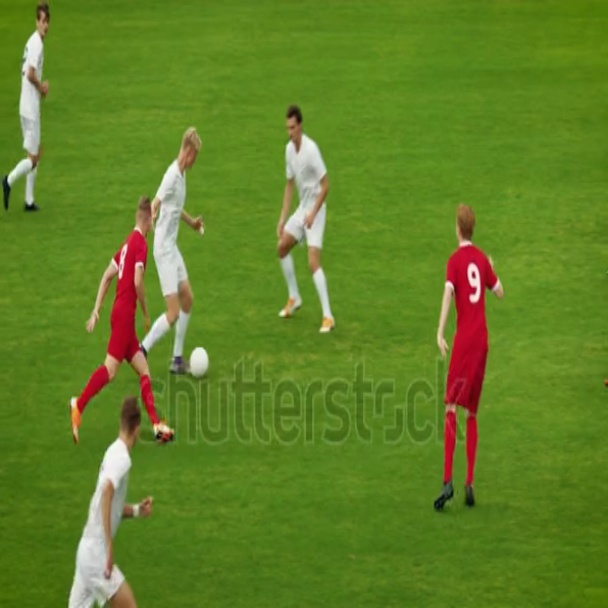ball: (184, 341, 214, 387)
